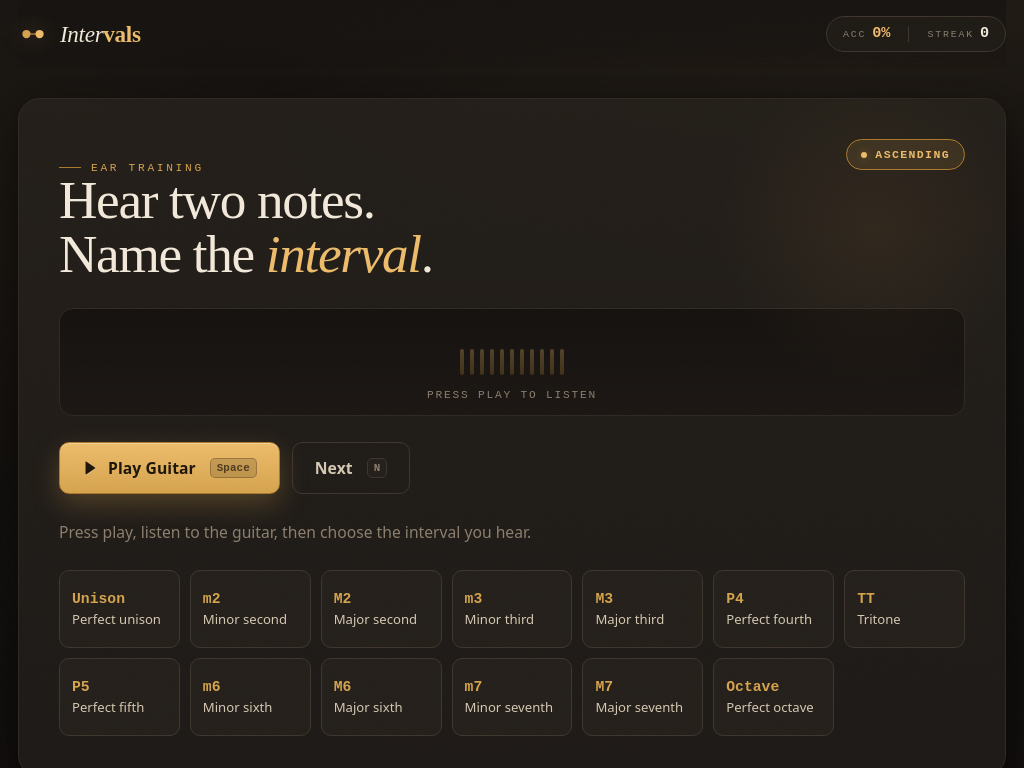
Test: App feedback › shows wrong feedback and answer classes
What coordinates should you click on to do the following:
click the button "m2 Minor second"
I would click on:
 (250, 609)
Its box is [190, 570, 311, 648].
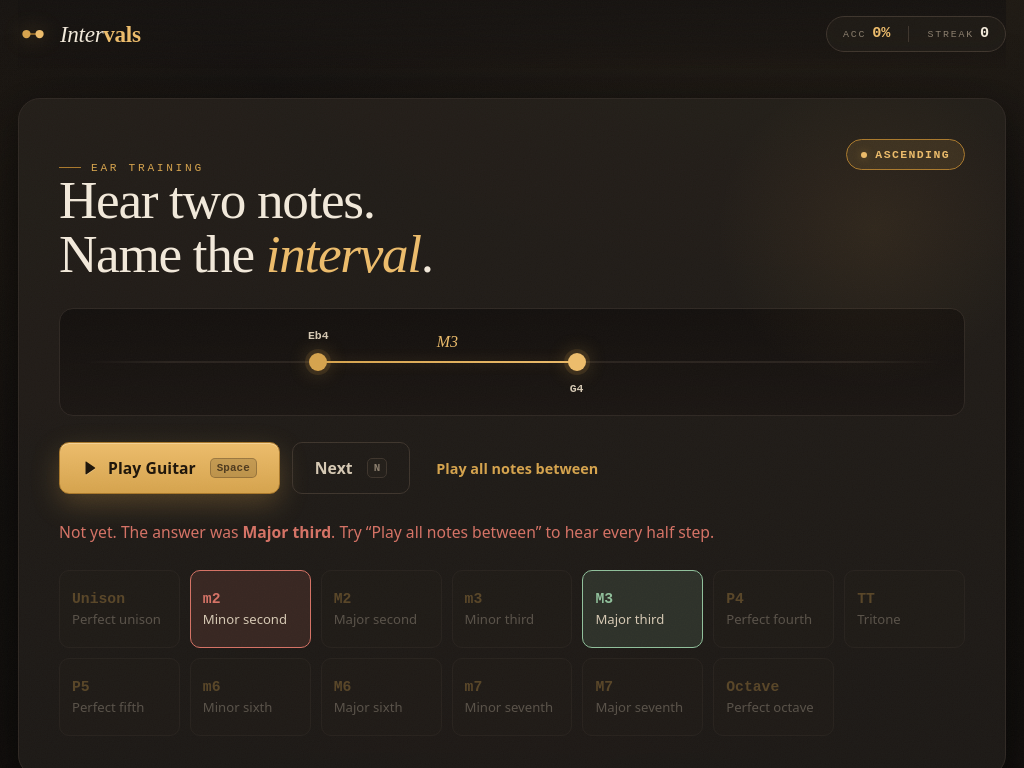
Expected: the message shows "Not yet. The answer was Major third. Try “Play all notes between” to hear every half step.", [59, 521, 714, 543]
Expected: the button "Play all notes between" is shown, [422, 446, 612, 490]
